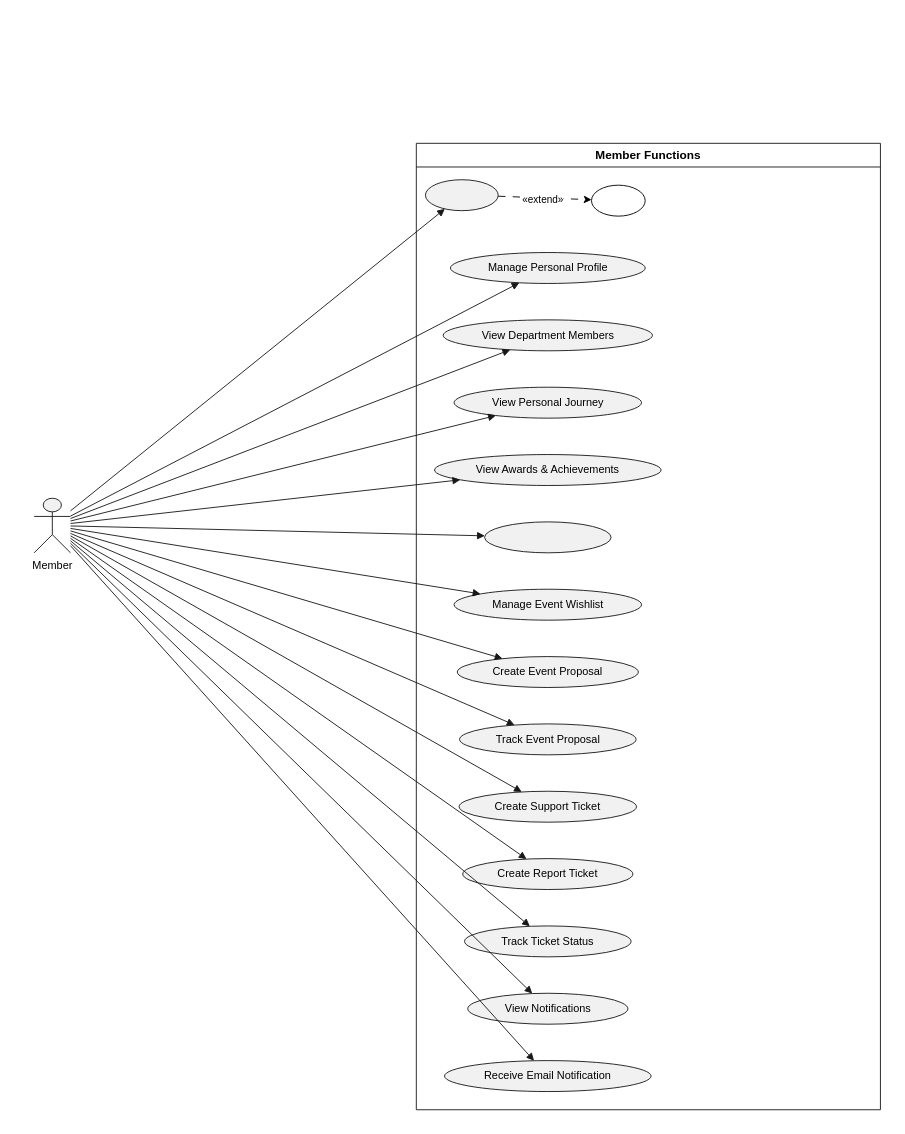
Some shapes in this 905 by 1134 pixel diagram are drawn without their labels. Each missing label, with the centre of its shape:
"Login" goes at pixel 461 195.
"Logout" goes at pixel 618 200.
"View Events" goes at pixel 547 537.
